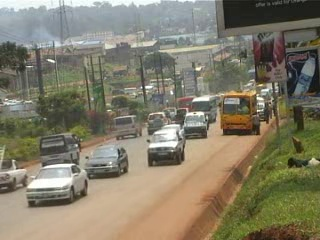Car: (25, 162, 89, 209), (83, 142, 130, 181), (145, 109, 171, 135), (159, 120, 185, 144), (170, 104, 190, 116)
Motorcycle: (172, 108, 184, 126)
